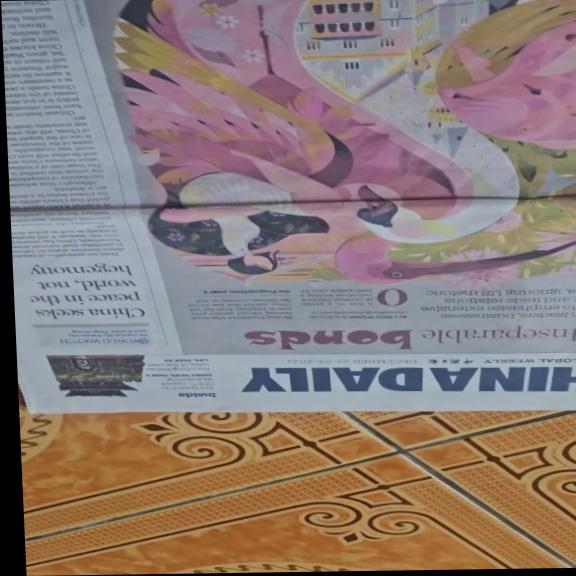Kertas: (3, 0, 576, 420)
